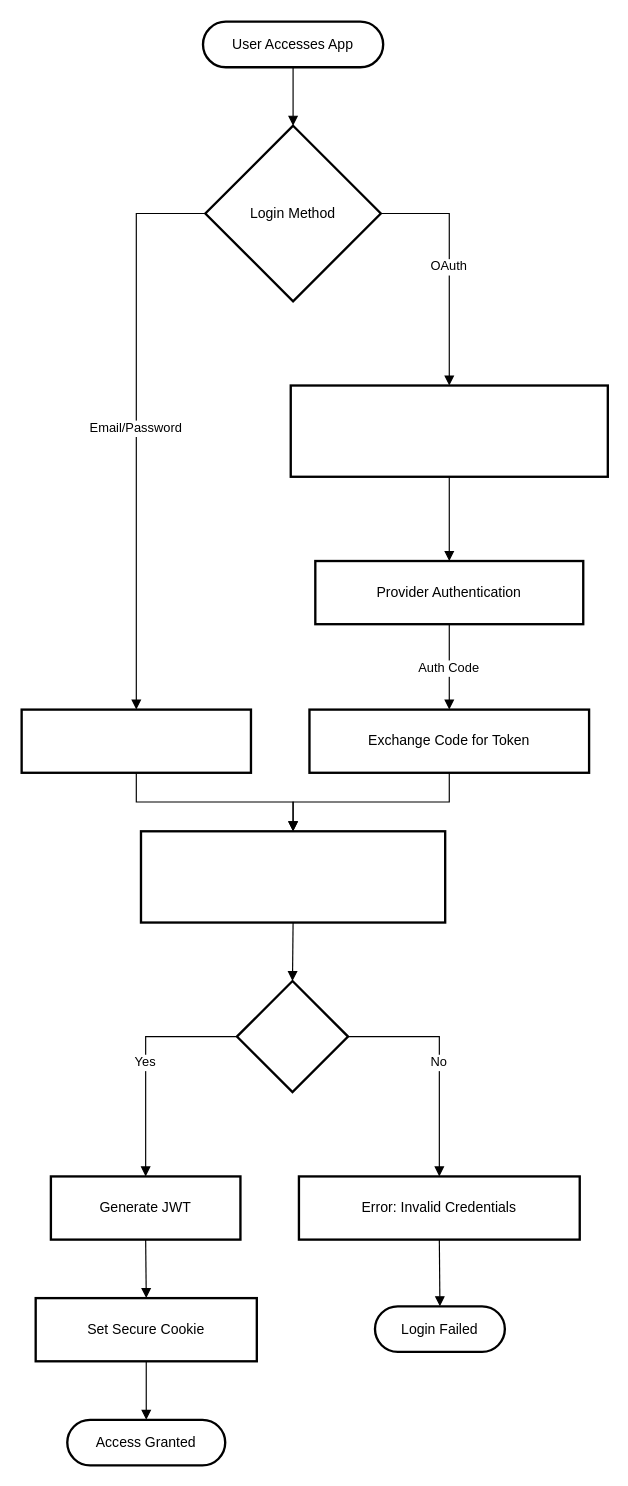
Image size: 628x1486. Some labels were removed from this diagram. Here are the shapes that lost their labels. From the top down, the centre of each, then its label:
pixel 448 430: Redirect to Provider (Google/Facebook)
pixel 136 740: Submit Credentials
pixel 292 876: Verify Credentials with Users DB
pixel 292 1036: Valid?
